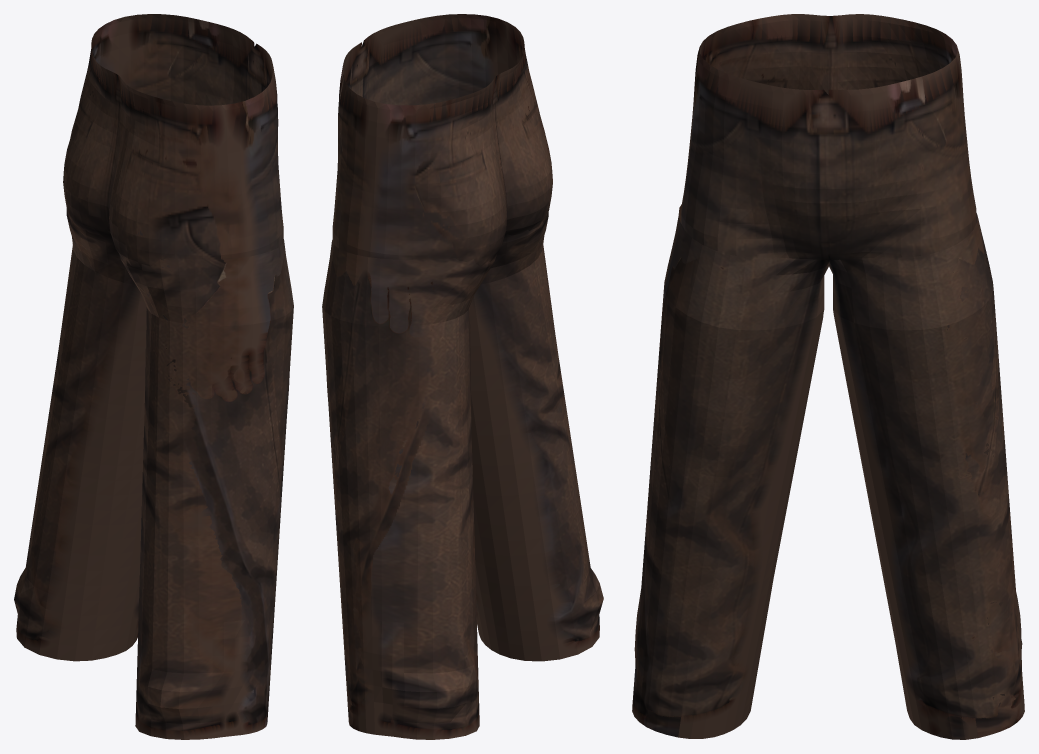
The model's file is bold_cowboy_mhmade_trousers.glb.
The picture shows the model from 3 angles, left to right: view 1: azimuth 30°, elevation 25°; view 2: azimuth 150°, elevation 25°; view 3: azimuth 270°, elevation 25°; orthographic projection. The views are drawn at different scales.
Visible parts, largest first — view 1: trousers; view 2: trousers; view 3: trousers.
Boxes of the visible parts, bbox=[...] form: trousers: bbox=[14, 14, 293, 739]; trousers: bbox=[322, 14, 603, 739]; trousers: bbox=[632, 14, 1024, 739].
Size of the model in its own units: 0.1515 by 0.5056 by 0.263.
Materials: 1 (1 with a texture image).
